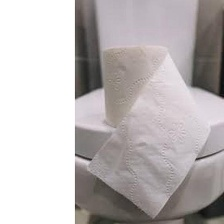tissue: (81, 37, 215, 222)
